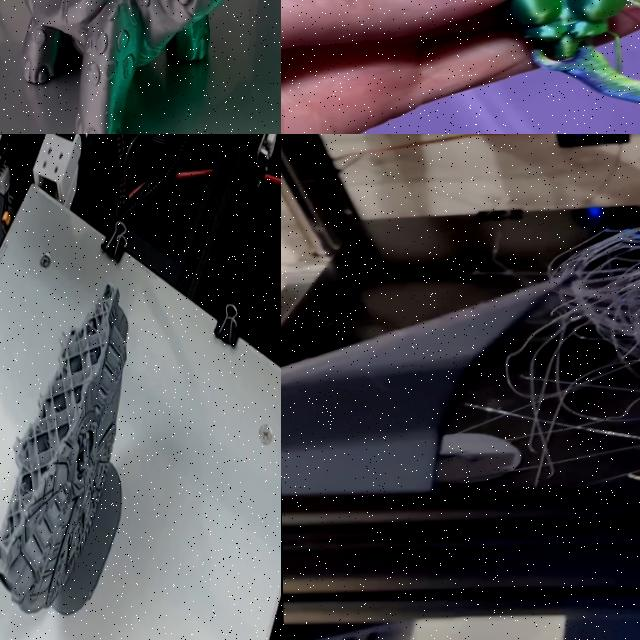spaghetti: (531, 186, 640, 393)
